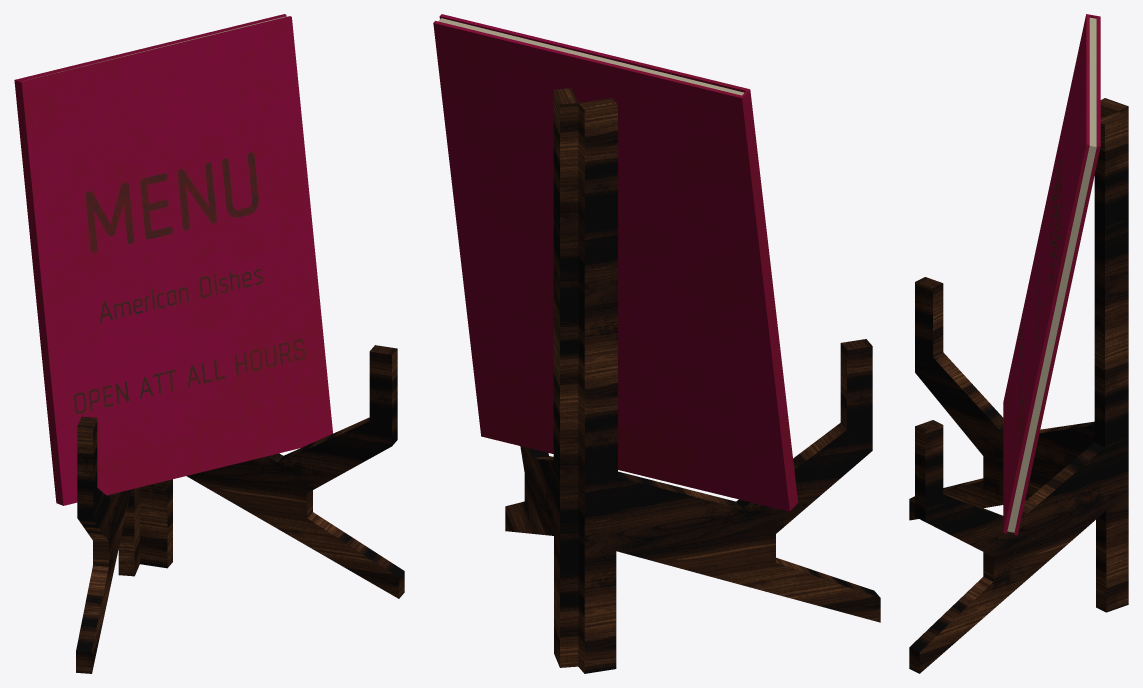
The model's file is MenuOnStand.FBX.
3 renders of one model, left to right at view 1: azimuth 30°, elevation 25°; view 2: azimuth 150°, elevation 25°; view 3: azimuth 270°, elevation 25°, orthographic. The views are drawn at different scales.
Visible parts, largest first — view 1: Object001; view 2: Object001; view 3: Object001.
Part boxes in pixels (left/top/right/bottom): Object001: left=14, top=14, right=404, bottom=673; Object001: left=433, top=14, right=880, bottom=673; Object001: left=909, top=14, right=1128, bottom=673.
Size of the model in its own units: 25.74 by 39.39 by 15.04.
